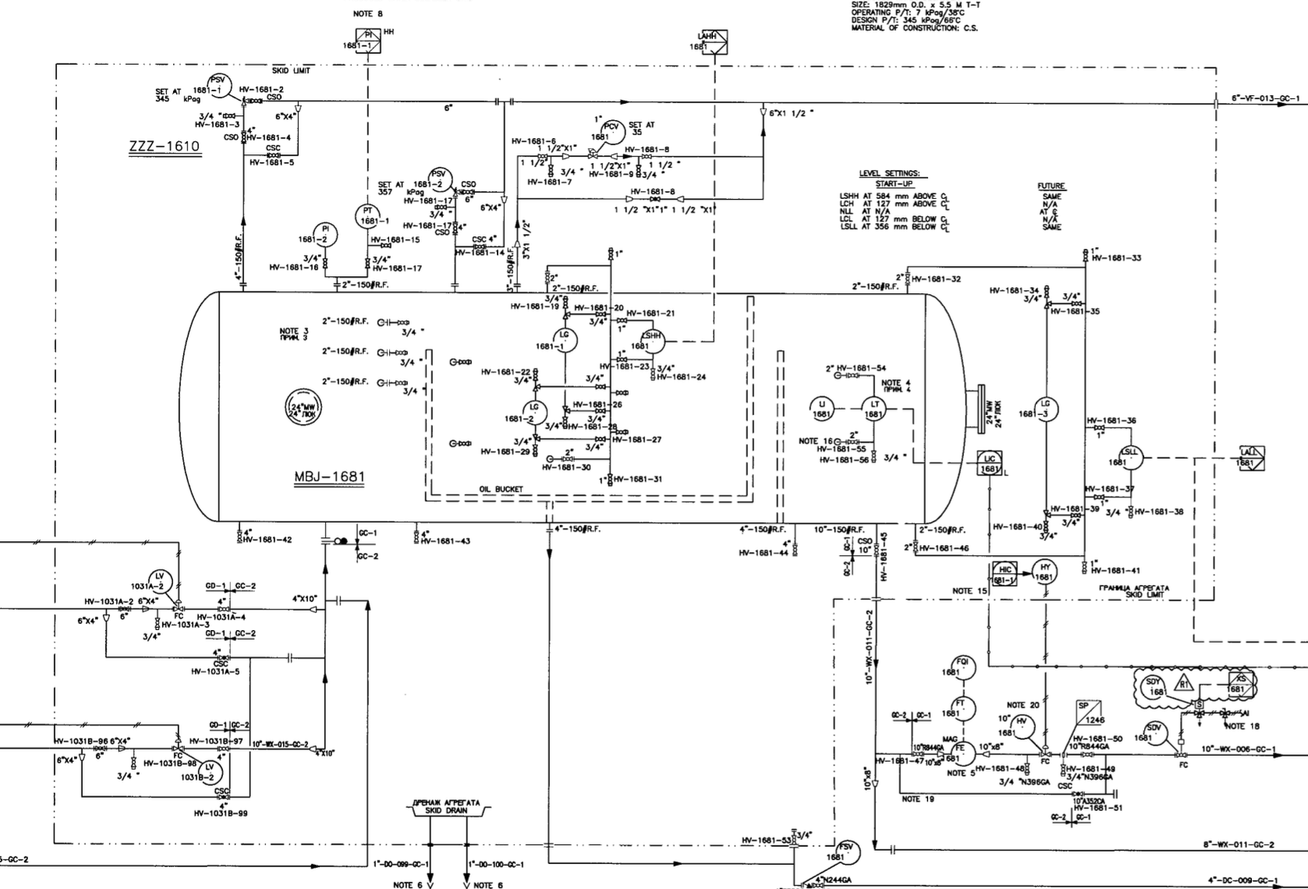Instrument-offset: (1012, 390, 1066, 430), (501, 396, 553, 429), (530, 325, 585, 356), (997, 707, 1042, 744), (129, 564, 178, 596), (938, 692, 984, 726), (347, 197, 396, 228), (821, 834, 867, 867), (1107, 441, 1154, 473), (293, 218, 340, 250), (626, 325, 675, 355), (587, 115, 631, 148), (413, 161, 455, 192), (191, 68, 233, 98), (942, 652, 982, 683), (183, 754, 223, 784), (807, 389, 841, 424), (938, 737, 980, 764), (1030, 554, 1064, 586), (855, 394, 889, 424)
Instrument-square-offset: (682, 21, 742, 62), (1225, 438, 1271, 475), (336, 23, 386, 57), (988, 555, 1023, 593), (976, 444, 1008, 480)
